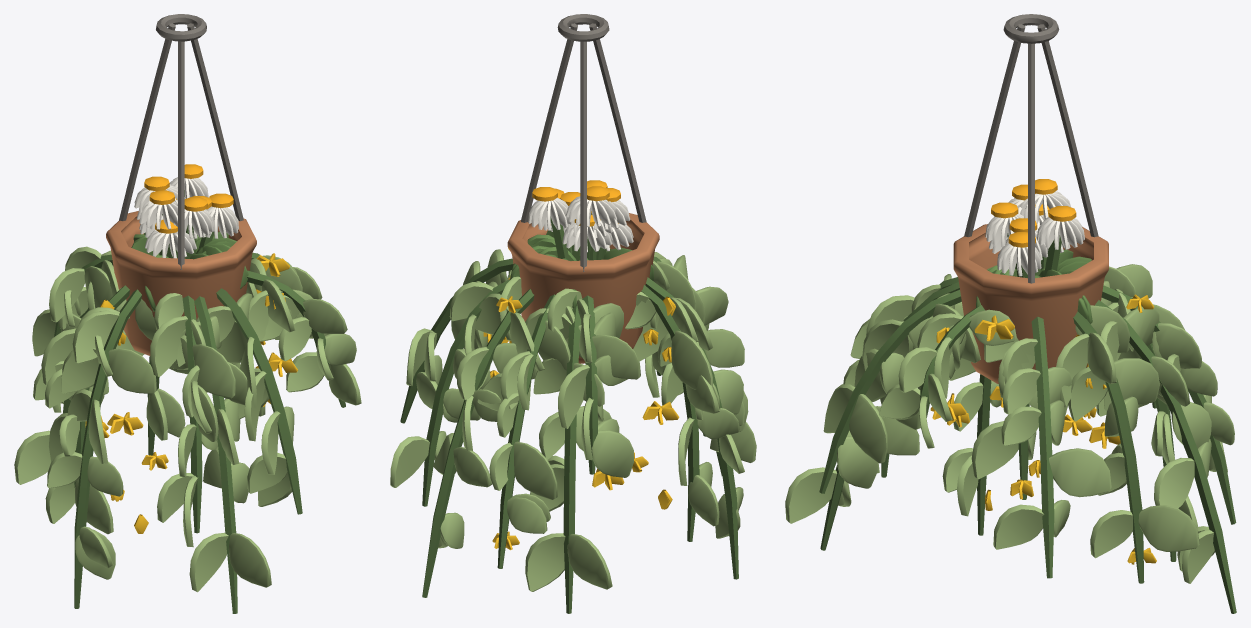
The model's file is suspension_fleurie.glb.
3 renders of one model, left to right at view 1: azimuth 30°, elevation 25°; view 2: azimuth 150°, elevation 25°; view 3: azimuth 270°, elevation 25°, orthographic. The views are drawn at different scales.
Parts seen in each view (by area): view 1: SSB_Feuille_Tendre, SSB_Tige, SSB_Pot_Terracotta, SSB_Metal, SSB_Fl_Blanc, SSB_Fl_Jaune, SSB_Fl_Coeur, SSB_Feuille_Moyen; view 2: SSB_Feuille_Tendre, SSB_Tige, SSB_Pot_Terracotta, SSB_Metal, SSB_Fl_Blanc, SSB_Fl_Jaune, SSB_Fl_Coeur, SSB_Feuille_Moyen; view 3: SSB_Feuille_Tendre, SSB_Tige, SSB_Pot_Terracotta, SSB_Metal, SSB_Fl_Blanc, SSB_Fl_Jaune, SSB_Fl_Coeur, SSB_Feuille_Moyen.
Part boxes in pixels (x1=…): SSB_Feuille_Tendre: x1=14, y1=246, x2=361, y2=592; SSB_Tige: x1=54, y1=190, x2=345, y2=613; SSB_Pot_Terracotta: x1=106, y1=211, x2=256, y2=355; SSB_Metal: x1=119, y1=14, x2=243, y2=269; SSB_Fl_Blanc: x1=134, y1=177, x2=238, y2=258; SSB_Fl_Jaune: x1=85, y1=253, x2=297, y2=533; SSB_Fl_Coeur: x1=144, y1=164, x2=233, y2=233; SSB_Feuille_Moyen: x1=131, y1=231, x2=248, y2=311; SSB_Feuille_Tendre: x1=390, y1=249, x2=756, y2=591; SSB_Tige: x1=400, y1=213, x2=738, y2=613; SSB_Pot_Terracotta: x1=507, y1=213, x2=659, y2=363; SSB_Metal: x1=521, y1=14, x2=646, y2=271; SSB_Fl_Blanc: x1=528, y1=196, x2=633, y2=252; SSB_Fl_Jaune: x1=483, y1=248, x2=679, y2=550; SSB_Fl_Coeur: x1=532, y1=180, x2=620, y2=226; SSB_Feuille_Moyen: x1=510, y1=228, x2=653, y2=307; SSB_Feuille_Tendre: x1=785, y1=264, x2=1234, y2=583; SSB_Tige: x1=819, y1=233, x2=1236, y2=613; SSB_Pot_Terracotta: x1=953, y1=224, x2=1108, y2=383; SSB_Metal: x1=964, y1=14, x2=1098, y2=283; SSB_Fl_Blanc: x1=985, y1=191, x2=1084, y2=276; SSB_Fl_Jaune: x1=930, y1=294, x2=1156, y2=564; SSB_Fl_Coeur: x1=991, y1=179, x2=1076, y2=247; SSB_Feuille_Moyen: x1=976, y1=249, x2=1092, y2=323.
Size of the model in its own units: 0.6815 by 1.09 by 0.7734.
